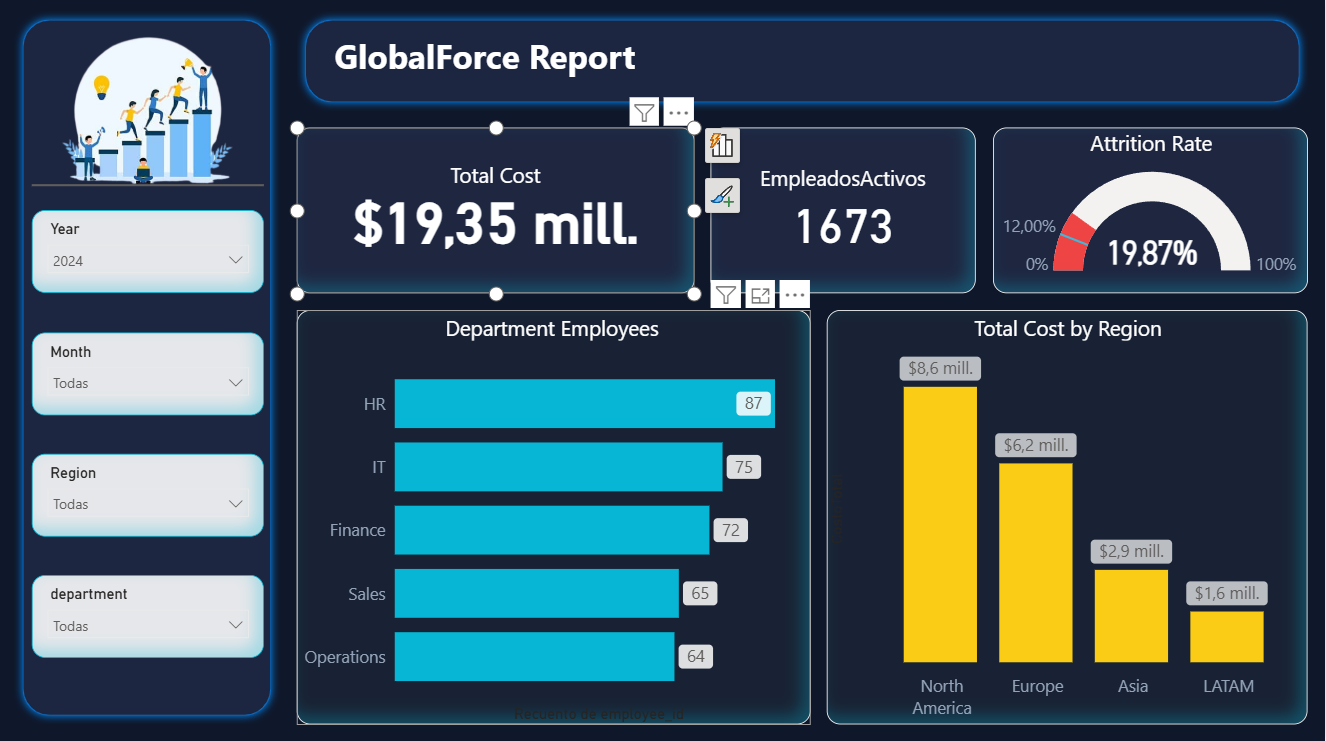

What the dashboard file says about the page in this screenshot:
{"tool":"powerbi","page":{"name":"Resumen Ejecutivo","canvas":[1280,720],"ordinal":0},"visuals":[{"type":"shape","box":[16,16,256,688],"z":0},{"type":"gauge","title":"Attrition Rate","fields":{"Y":["Metricas.Tasa de Rotación"]},"box":[960,128,304,160],"z":1000},{"type":"cardVisual","title":"Costo total","fields":{"Data":["Metricas.CostoTotal"]},"box":[288,128,384,160],"z":2000},{"type":"lineClusteredColumnComboChart","title":"Total Cost by Region","fields":{"Category":["regions.region_name"],"Y":["Metricas.CostoTotal"]},"box":[800,304,464,400],"z":3000},{"type":"cardVisual","fields":{"Data":["Metricas.EmpleadosActivos2"]},"box":[688,128,256,160],"z":4000},{"type":"shape","box":[288,16,976,96],"z":5000},{"type":"clusteredBarChart","title":"Department Employees","fields":{"Y":["CountNonNull(employees.employee_id)"],"Category":["departments.department_name"]},"box":[288,304,496,400],"z":6000},{"type":"slicer","fields":{"Values":["regions.region_name"]},"box":[32,442.7,224,80],"z":7000},{"type":"slicer","fields":{"Values":["departments.department_name"]},"box":[32,560,224,80],"z":8000},{"type":"textbox","box":[320,32,560,64],"z":9000},{"type":"slicer","fields":{"Values":["Calendario 2.Mes"]},"box":[32,325.3,224,80],"z":10000},{"type":"shape","box":[32,144,224,80],"z":11000},{"type":"image","box":[48,16,192,192],"z":12000},{"type":"slicer","fields":{"Values":["Calendario 2.Año"]},"box":[32,208,224,80],"z":13000}]}

Visuals, with their boxes in screenshot pixels (x1, y1, x2, y2), scaled from the page's 1280x720 canvas onto the 1326x741 screenshot:
shape: {"left": 17, "top": 16, "right": 282, "bottom": 725}
"Attrition Rate" gauge: {"left": 994, "top": 132, "right": 1309, "bottom": 296}
"Costo total" cardVisual: {"left": 298, "top": 132, "right": 696, "bottom": 296}
"Total Cost by Region" lineClusteredColumnComboChart: {"left": 829, "top": 313, "right": 1309, "bottom": 725}
cardVisual - Metricas.EmpleadosActivos2: {"left": 713, "top": 132, "right": 978, "bottom": 296}
shape: {"left": 298, "top": 16, "right": 1309, "bottom": 115}
"Department Employees" clusteredBarChart: {"left": 298, "top": 313, "right": 812, "bottom": 725}
slicer - regions.region_name: {"left": 33, "top": 456, "right": 265, "bottom": 538}
slicer - departments.department_name: {"left": 33, "top": 576, "right": 265, "bottom": 659}
textbox: {"left": 332, "top": 33, "right": 912, "bottom": 99}
slicer - Calendario 2.Mes: {"left": 33, "top": 335, "right": 265, "bottom": 417}
shape: {"left": 33, "top": 148, "right": 265, "bottom": 231}
image: {"left": 50, "top": 16, "right": 249, "bottom": 214}
slicer - Calendario 2.Año: {"left": 33, "top": 214, "right": 265, "bottom": 296}
